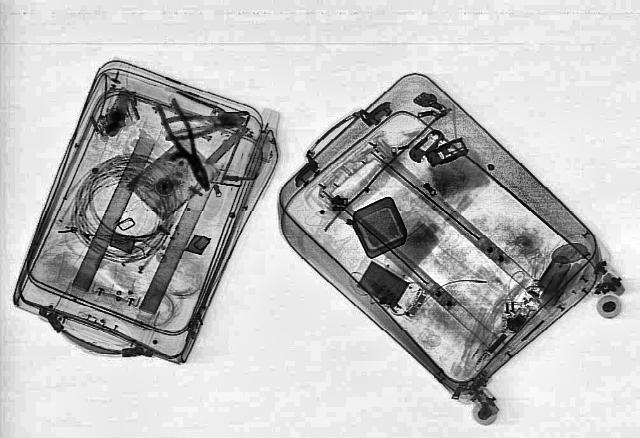Pliers: (149, 96, 223, 192), (158, 108, 248, 138)
